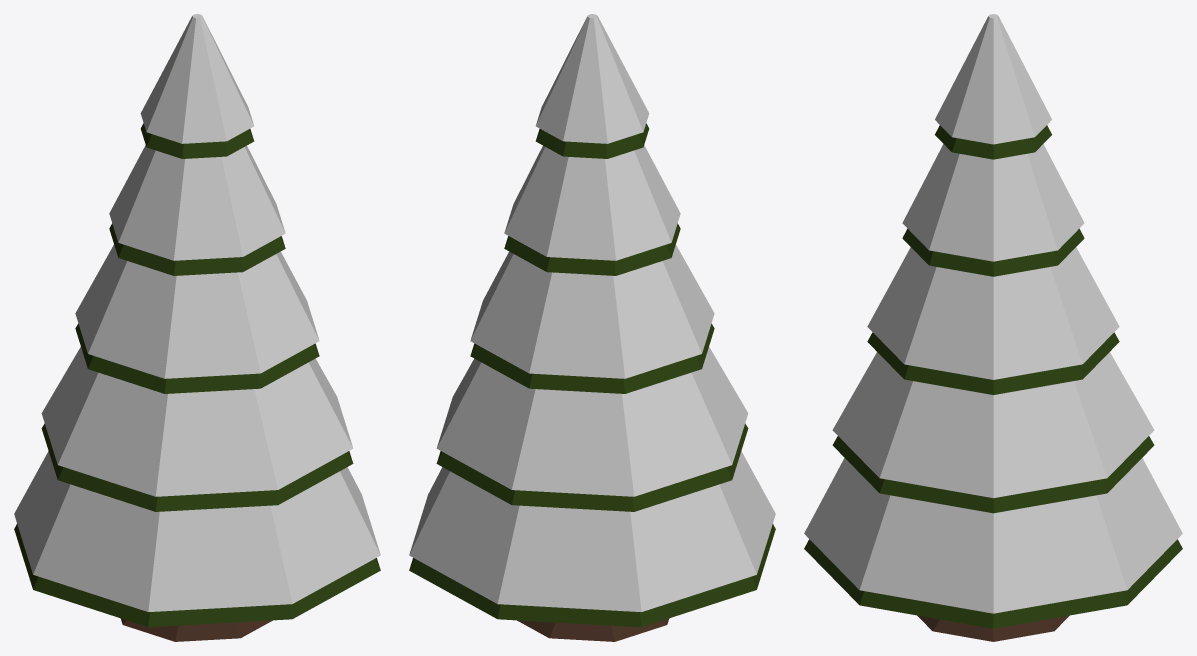
Rendered from SnowPineTree002.fbx.
The picture shows the model from 3 angles, left to right: view 1: azimuth 30°, elevation 25°; view 2: azimuth 150°, elevation 25°; view 3: azimuth 270°, elevation 25°; orthographic projection.
Parts seen in each view (by area): view 1: Cylinder.008; view 2: Cylinder.008; view 3: Cylinder.008.
Boxes of the visible parts, x1,y1,x2,y2 form: Cylinder.008: (14, 14, 380, 641); Cylinder.008: (409, 14, 775, 641); Cylinder.008: (804, 14, 1182, 641).
Bounding box in the file's own units: 942 × 1617 × 942.
